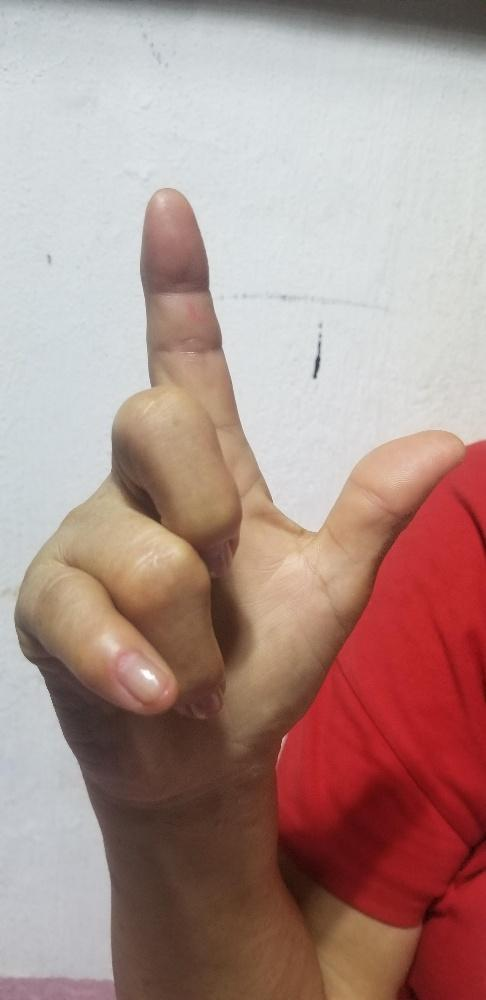l: (13, 185, 467, 758)
